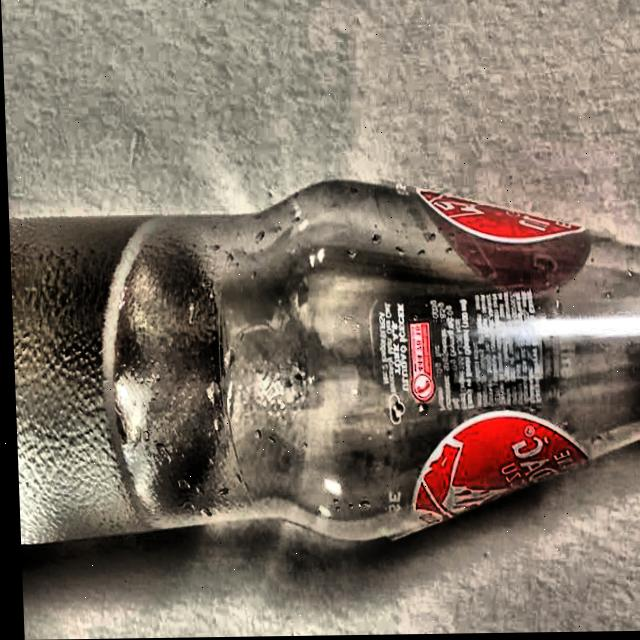plastic: (6, 176, 640, 551)
